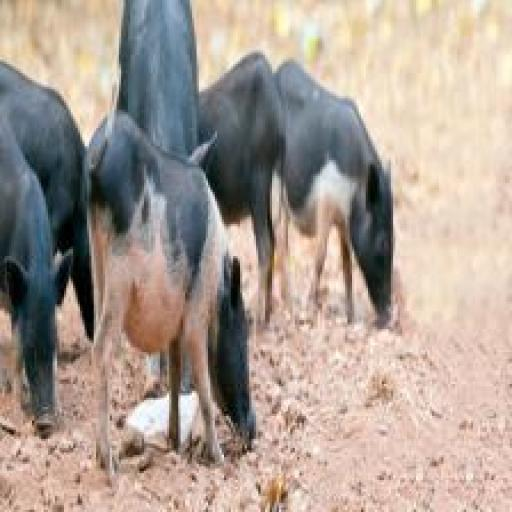Pig: (0, 2, 408, 465)
